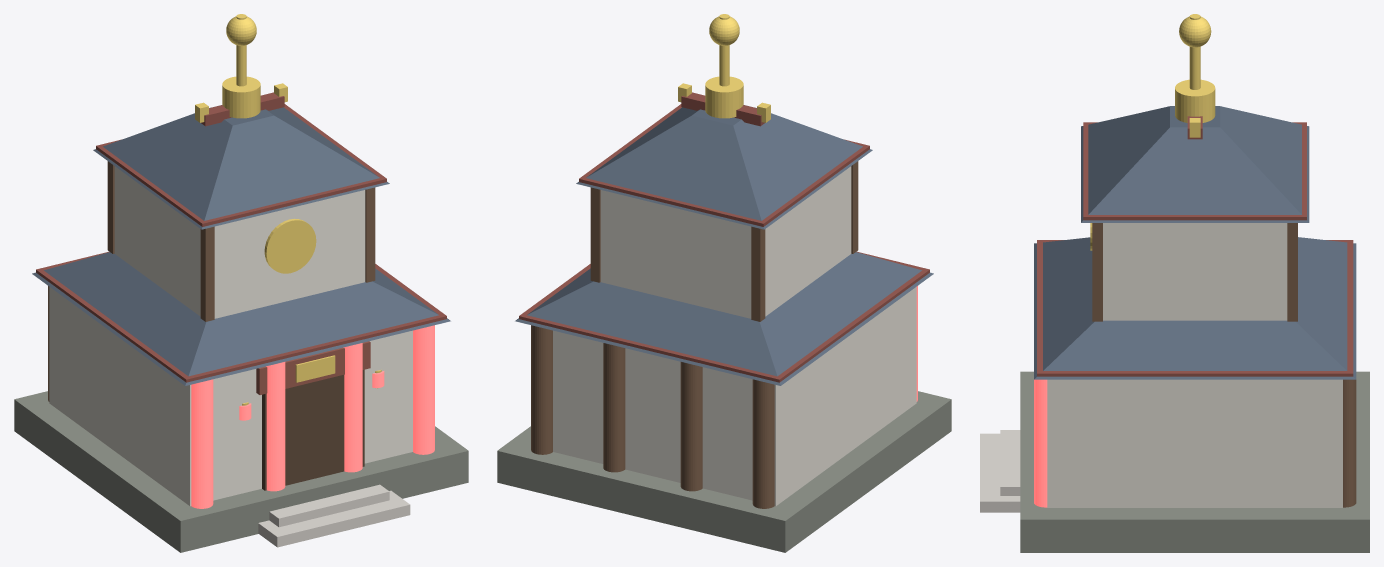
File: town_center.glb
3 renders of one model, left to right at view 1: azimuth 30°, elevation 25°; view 2: azimuth 150°, elevation 25°; view 3: azimuth 270°, elevation 25°, orthographic. The views are drawn at different scales.
Parts seen in each view (by area): view 1: MainHallPlaster, RoofTier1_Tiles, UpperHall, PalaceBase, RoofTier2_Tiles, PalaceGate, RoofTier1_EavesTrim, FrontStairs1, RedPillarFront_-2.0, RedPillarFront_2.0, RoofTier2_EavesTrim, RedPillarFront_-0.7 (+11 smaller); view 2: MainHallPlaster, UpperHall, PalaceBase, RoofTier1_Tiles, RoofTier2_Tiles, RoofTier1_EavesTrim, RedPillarBack_-0.7, RedPillarBack_0.7, RedPillarBack_-2.0, RedPillarBack_2.0, RoofTier2_EavesTrim, SpireBase (+5 smaller); view 3: MainHallPlaster, RoofTier1_Tiles, RoofTier2_Tiles, PalaceBase, UpperHall, RoofTier1_EavesTrim, RoofTier2_EavesTrim, FrontStairs1, RedPillarFront_2.0, RedPillarBack_2.0, SpireBase, FrontStairs2 (+4 smaller).
Boxes of the visible parts, x1=… form: MainHallPlaster: x1=49, y1=287, x2=412, y2=506; RoofTier1_Tiles: x1=32, y1=252, x2=450, y2=385; UpperHall: x1=114, y1=166, x2=365, y2=318; PalaceBase: x1=14, y1=391, x2=468, y2=552; RoofTier2_Tiles: x1=93, y1=105, x2=389, y2=229; PalaceGate: x1=262, y1=369, x2=364, y2=490; RoofTier1_EavesTrim: x1=36, y1=251, x2=446, y2=382; FrontStairs1: x1=258, y1=490, x2=410, y2=547; RedPillarFront_-2.0: x1=191, y1=379, x2=213, y2=508; RedPillarFront_2.0: x1=413, y1=325, x2=434, y2=454; RoofTier2_EavesTrim: x1=96, y1=104, x2=386, y2=226; RedPillarFront_-0.7: x1=266, y1=362, x2=285, y2=491; MainHallPlaster: x1=553, y1=287, x2=916, y2=506; UpperHall: x1=600, y1=166, x2=851, y2=318; PalaceBase: x1=497, y1=391, x2=951, y2=552; RoofTier1_Tiles: x1=515, y1=252, x2=933, y2=385; RoofTier2_Tiles: x1=576, y1=105, x2=872, y2=229; RoofTier1_EavesTrim: x1=519, y1=251, x2=929, y2=382; RedPillarBack_-0.7: x1=680, y1=362, x2=702, y2=491; RedPillarBack_0.7: x1=603, y1=343, x2=625, y2=472; RedPillarBack_-2.0: x1=752, y1=379, x2=774, y2=508; RedPillarBack_2.0: x1=531, y1=325, x2=552, y2=454; RoofTier2_EavesTrim: x1=579, y1=104, x2=869, y2=226; SpireBase: x1=705, y1=76, x2=743, y2=118; MainHallPlaster: x1=1047, y1=379, x2=1342, y2=507; RoofTier1_Tiles: x1=1034, y1=237, x2=1356, y2=379; RoofTier2_Tiles: x1=1081, y1=106, x2=1309, y2=222; PalaceBase: x1=1020, y1=371, x2=1369, y2=552; UpperHall: x1=1103, y1=223, x2=1287, y2=320; RoofTier1_EavesTrim: x1=1037, y1=240, x2=1353, y2=376; RoofTier2_EavesTrim: x1=1083, y1=122, x2=1306, y2=220; FrontStairs1: x1=980, y1=433, x2=1020, y2=512; RedPillarFront_2.0: x1=1034, y1=379, x2=1047, y2=507; RedPillarBack_2.0: x1=1343, y1=379, x2=1356, y2=507; SpireBase: x1=1175, y1=79, x2=1215, y2=122; FrontStairs2: x1=1000, y1=430, x2=1020, y2=495.
Bounding box in the file's own units: 5.2 × 7.6 × 5.8.
